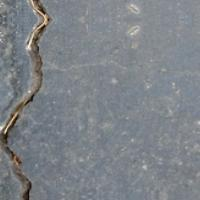crack: (0, 0, 58, 199)
